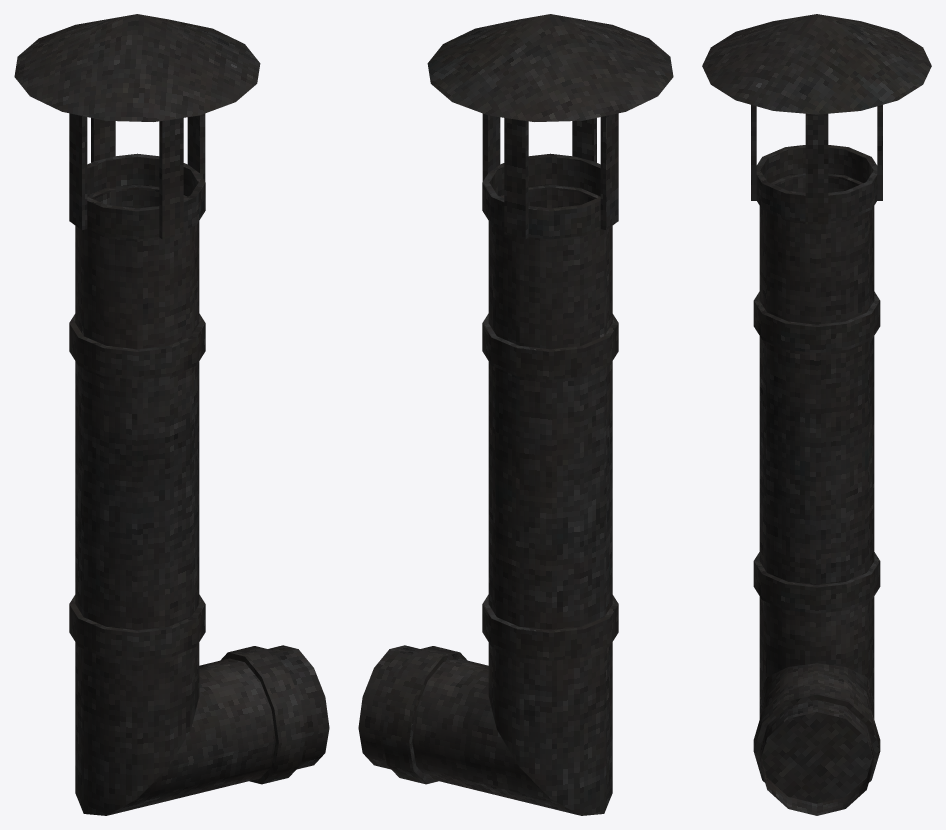
Rendered from chimney_a_3.glb.
The picture shows the model from 3 angles, left to right: view 1: azimuth 30°, elevation 25°; view 2: azimuth 150°, elevation 25°; view 3: azimuth 270°, elevation 25°; orthographic projection. The views are drawn at different scales.
Visible parts, largest first — view 1: chimney_a_3; view 2: chimney_a_3; view 3: chimney_a_3.
Boxes of the visible parts, x1=… form: chimney_a_3: x1=14, y1=14, x2=329, y2=815; chimney_a_3: x1=358, y1=14, x2=673, y2=815; chimney_a_3: x1=702, y1=14, x2=931, y2=815.
Size of the model in its own units: 0.5 by 1.41 by 0.4.
Materials: 1 (1 with a texture image).
